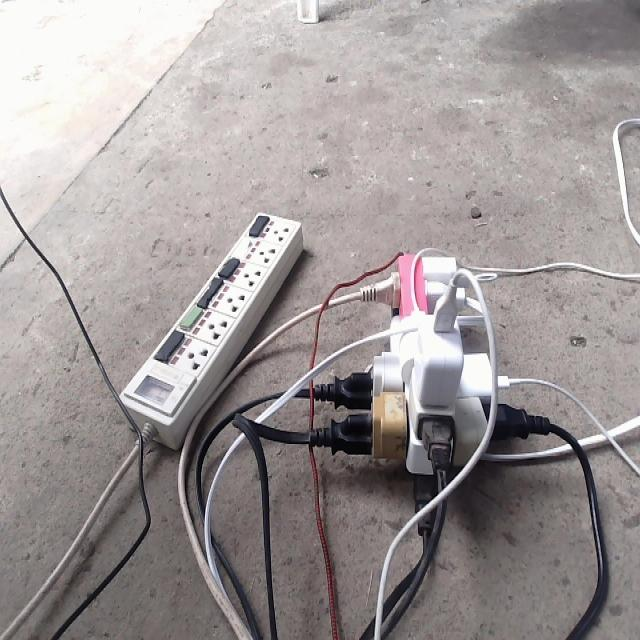-: (314, 226, 564, 558)
